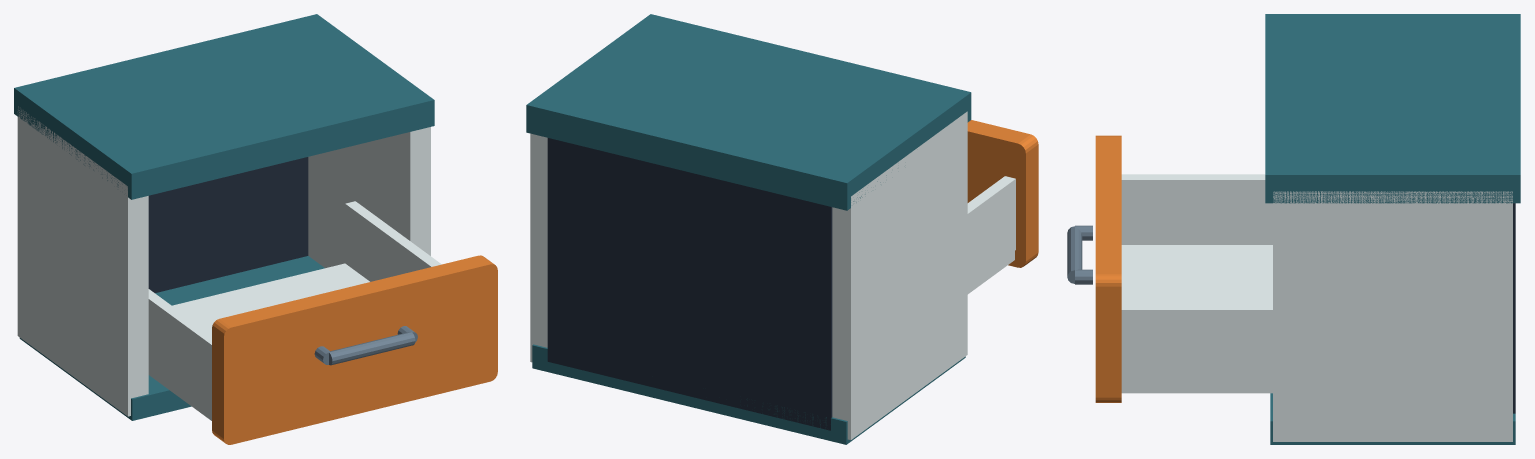
The model's file is drawer.glb.
3 renders of one model, left to right at view 1: azimuth 30°, elevation 25°; view 2: azimuth 150°, elevation 25°; view 3: azimuth 270°, elevation 25°, orthographic. The views are drawn at different scales.
Visible parts, largest first — view 1: top, drawer front, side -0.68, back, side 0.68, tray, tray side -0.59, tray side 0.59, bottom, drawer grip1; view 2: back, top, side -0.68, drawer front, bottom, tray side -0.59, side 0.68; view 3: side 0.68, top, tray side 0.59, tray, tray side -0.59, drawer front, bottom, drawer grip1, back.
Boxes of the visible parts, x1,y1,x2,y2 form: top: [14, 14, 434, 199]; drawer front: [212, 255, 497, 444]; side -0.68: [17, 106, 148, 416]; back: [148, 157, 308, 292]; side 0.68: [308, 127, 430, 268]; tray: [148, 263, 369, 420]; tray side -0.59: [148, 289, 211, 411]; tray side 0.59: [345, 201, 441, 281]; bottom: [19, 256, 324, 420]; drawer grip1: [329, 332, 415, 365]; back: [547, 138, 832, 430]; top: [526, 14, 971, 210]; side -0.68: [832, 111, 967, 439]; drawer front: [967, 120, 1038, 267]; bottom: [532, 344, 965, 444]; tray side -0.59: [967, 176, 1015, 284]; side 0.68: [530, 133, 547, 362]; side 0.68: [1273, 191, 1512, 441]; top: [1265, 14, 1520, 203]; tray side 0.59: [1121, 304, 1272, 383]; tray: [1121, 245, 1272, 393]; tray side -0.59: [1121, 174, 1272, 244]; drawer front: [1095, 135, 1121, 402]; bottom: [1270, 393, 1515, 444]; drawer grip1: [1067, 226, 1082, 283]; back: [1513, 203, 1515, 413].
Size of the model in its own units: 1.46 by 1.15 by 1.74.
